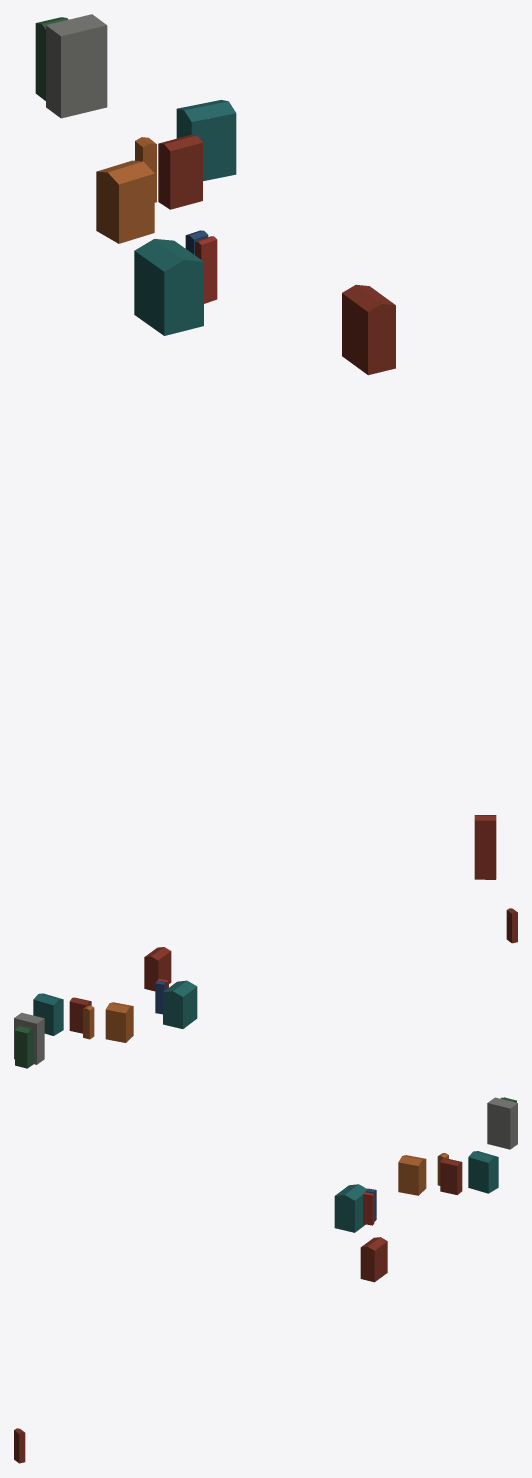
The model's file is near-15-27373-14879.d61d5f22.glb.
3 views of the same model, one above another, from view 1: azimuth 30°, elevation 25°; view 2: azimuth 150°, elevation 25°; view 3: azimuth 330°, elevation 25° (orthographic). The views are drawn at different scales.
Size of the model in its own units: 101 by 75.54 by 349.
